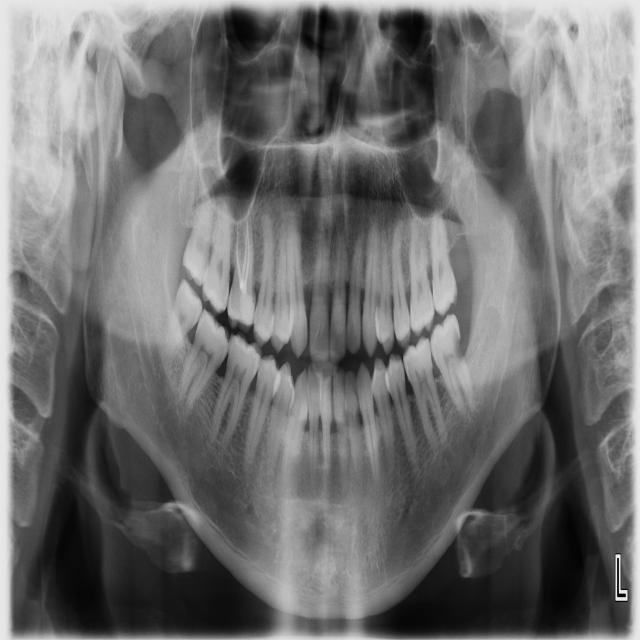mandibula: (83, 26, 561, 615)
